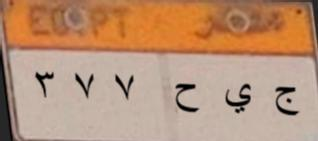3: (35, 67, 56, 102)
7: (111, 70, 138, 105), (73, 67, 95, 102)
7aa: (172, 78, 201, 118)
jeem: (272, 82, 302, 121)
yaa: (223, 80, 256, 117)
